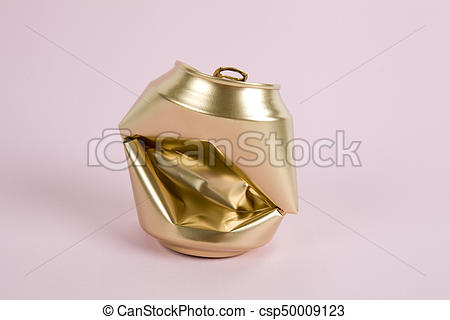can: (117, 59, 303, 262)
